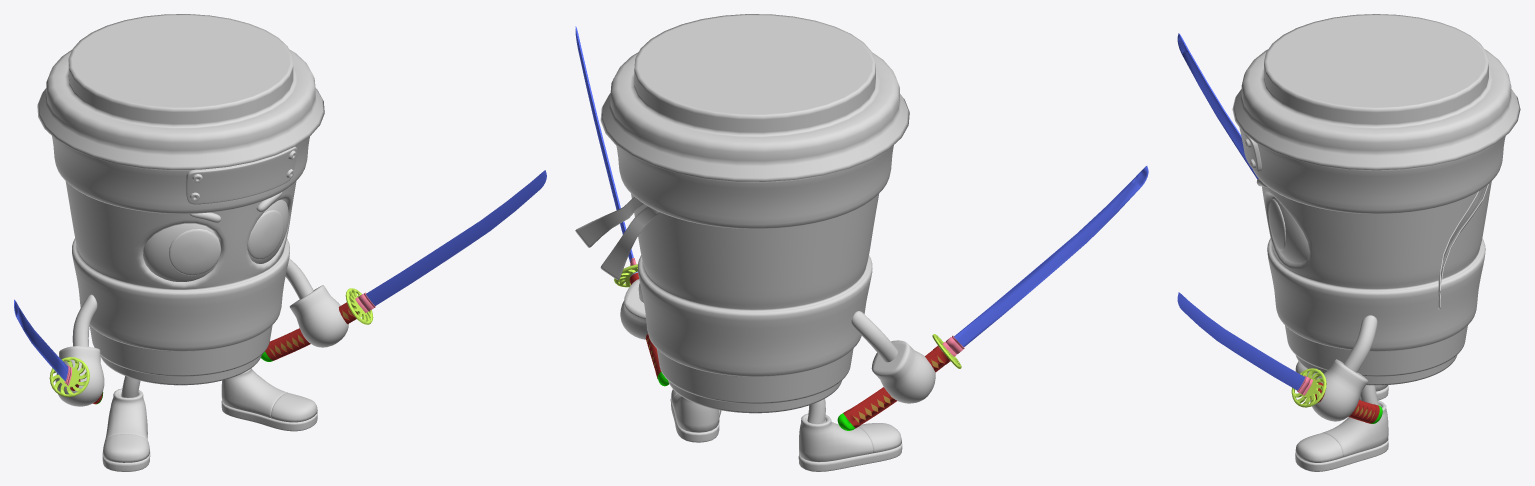
The model's file is Kapuchino.fbx.
3 views of the same model, side by side, from view 1: azimuth 30°, elevation 25°; view 2: azimuth 150°, elevation 25°; view 3: azimuth 270°, elevation 25° (orthographic). The views are drawn at different scales.
Visible parts, largest first — view 1: Cylinder, Blade_low; view 2: Cylinder, Blade_low; view 3: Cylinder, Blade_low.
Boxes of the visible parts, <box> form: Cylinder: <box>37,14,348,471</box>; Blade_low: <box>14,170,546,404</box>; Cylinder: <box>575,14,935,471</box>; Blade_low: <box>575,26,1148,430</box>; Cylinder: <box>1232,14,1520,471</box>; Blade_low: <box>1177,33,1382,423</box>.
Bounding box in the file's own units: 702 × 454 × 391.
